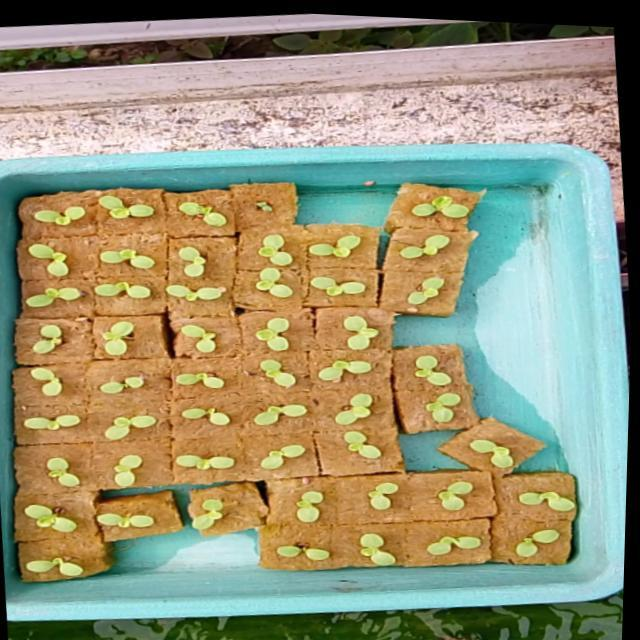Baby: (450, 431, 512, 474), (498, 528, 566, 563), (24, 459, 92, 493), (299, 271, 356, 302), (327, 395, 384, 426), (489, 496, 547, 526), (313, 359, 366, 389), (164, 323, 212, 356), (81, 370, 147, 394), (6, 320, 50, 355), (420, 533, 485, 556), (419, 394, 457, 430), (85, 194, 141, 218), (8, 287, 72, 308), (403, 198, 461, 221), (15, 244, 54, 277), (166, 201, 215, 227), (333, 318, 369, 353), (95, 417, 147, 441), (391, 238, 441, 262), (245, 319, 279, 354), (88, 321, 122, 356), (245, 269, 282, 300), (336, 433, 374, 463), (353, 535, 388, 567), (153, 284, 215, 302), (245, 406, 298, 427), (170, 408, 223, 429), (251, 360, 288, 390), (248, 237, 282, 269), (398, 279, 435, 308), (21, 205, 74, 225), (81, 281, 139, 299), (300, 235, 351, 255), (429, 482, 463, 512), (13, 416, 70, 432), (104, 457, 133, 488), (20, 369, 53, 396), (166, 246, 194, 277), (407, 356, 443, 380), (288, 493, 315, 525), (167, 374, 216, 391), (361, 484, 390, 512), (255, 447, 288, 471), (88, 249, 131, 265)
